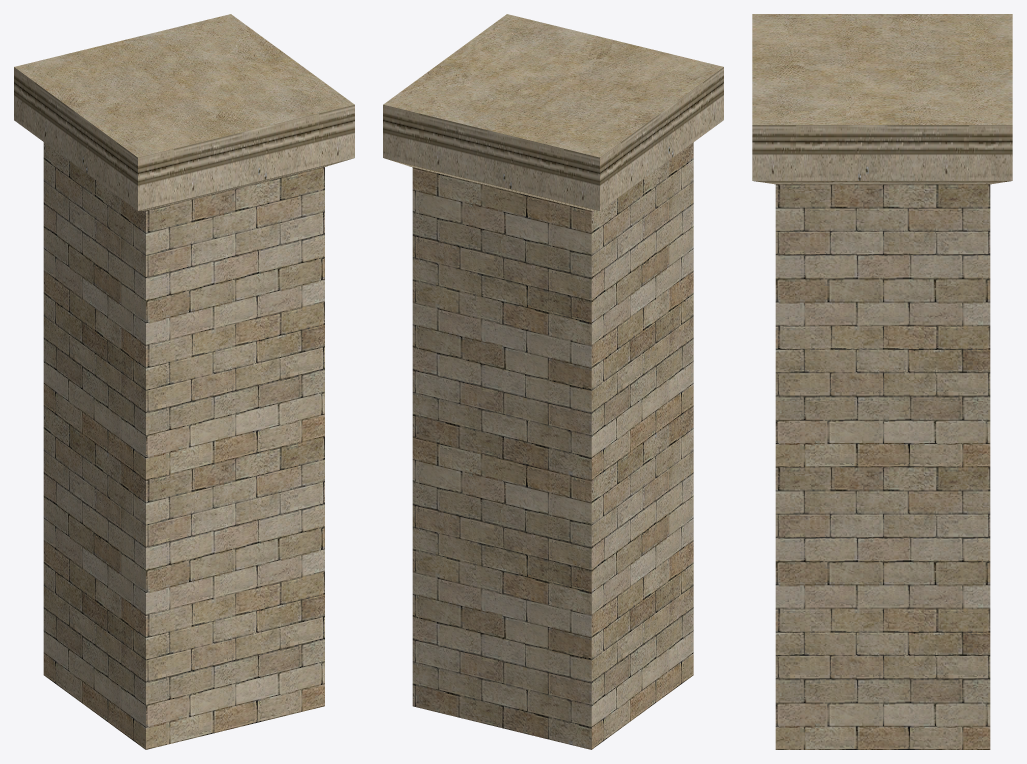
Rendered from thm_nboo_imprv_spill_gate_pillar_s01_l0.fbx.
The picture shows the model from 3 angles, left to right: view 1: azimuth 30°, elevation 25°; view 2: azimuth 150°, elevation 25°; view 3: azimuth 270°, elevation 25°; orthographic projection. The views are drawn at different scales.
Visible parts, largest first — view 1: mesh_node; view 2: mesh_node; view 3: mesh_node.
Part boxes in pixels (x1,y1,x2,y2): mesh_node: (14,14,354,749); mesh_node: (383,14,723,749); mesh_node: (752,14,1012,749).
Size of the model in its own units: 1.79 by 4.77 by 1.77.
